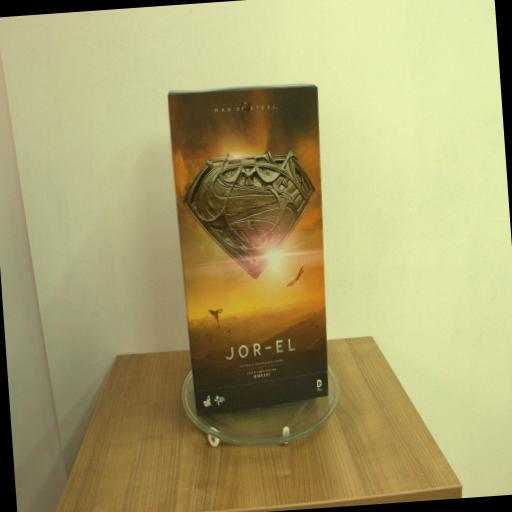superman: (167, 78, 338, 408)
